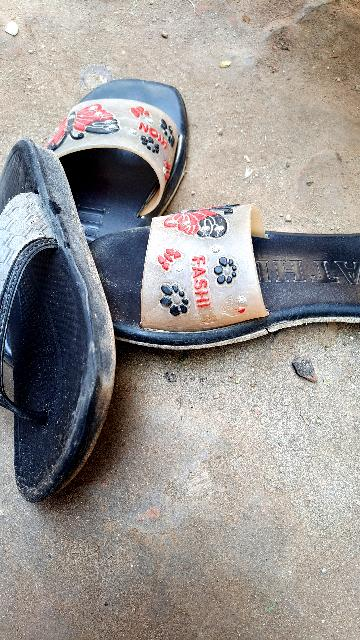sandal: (1, 110, 116, 499), (45, 70, 203, 263), (102, 223, 360, 339)
